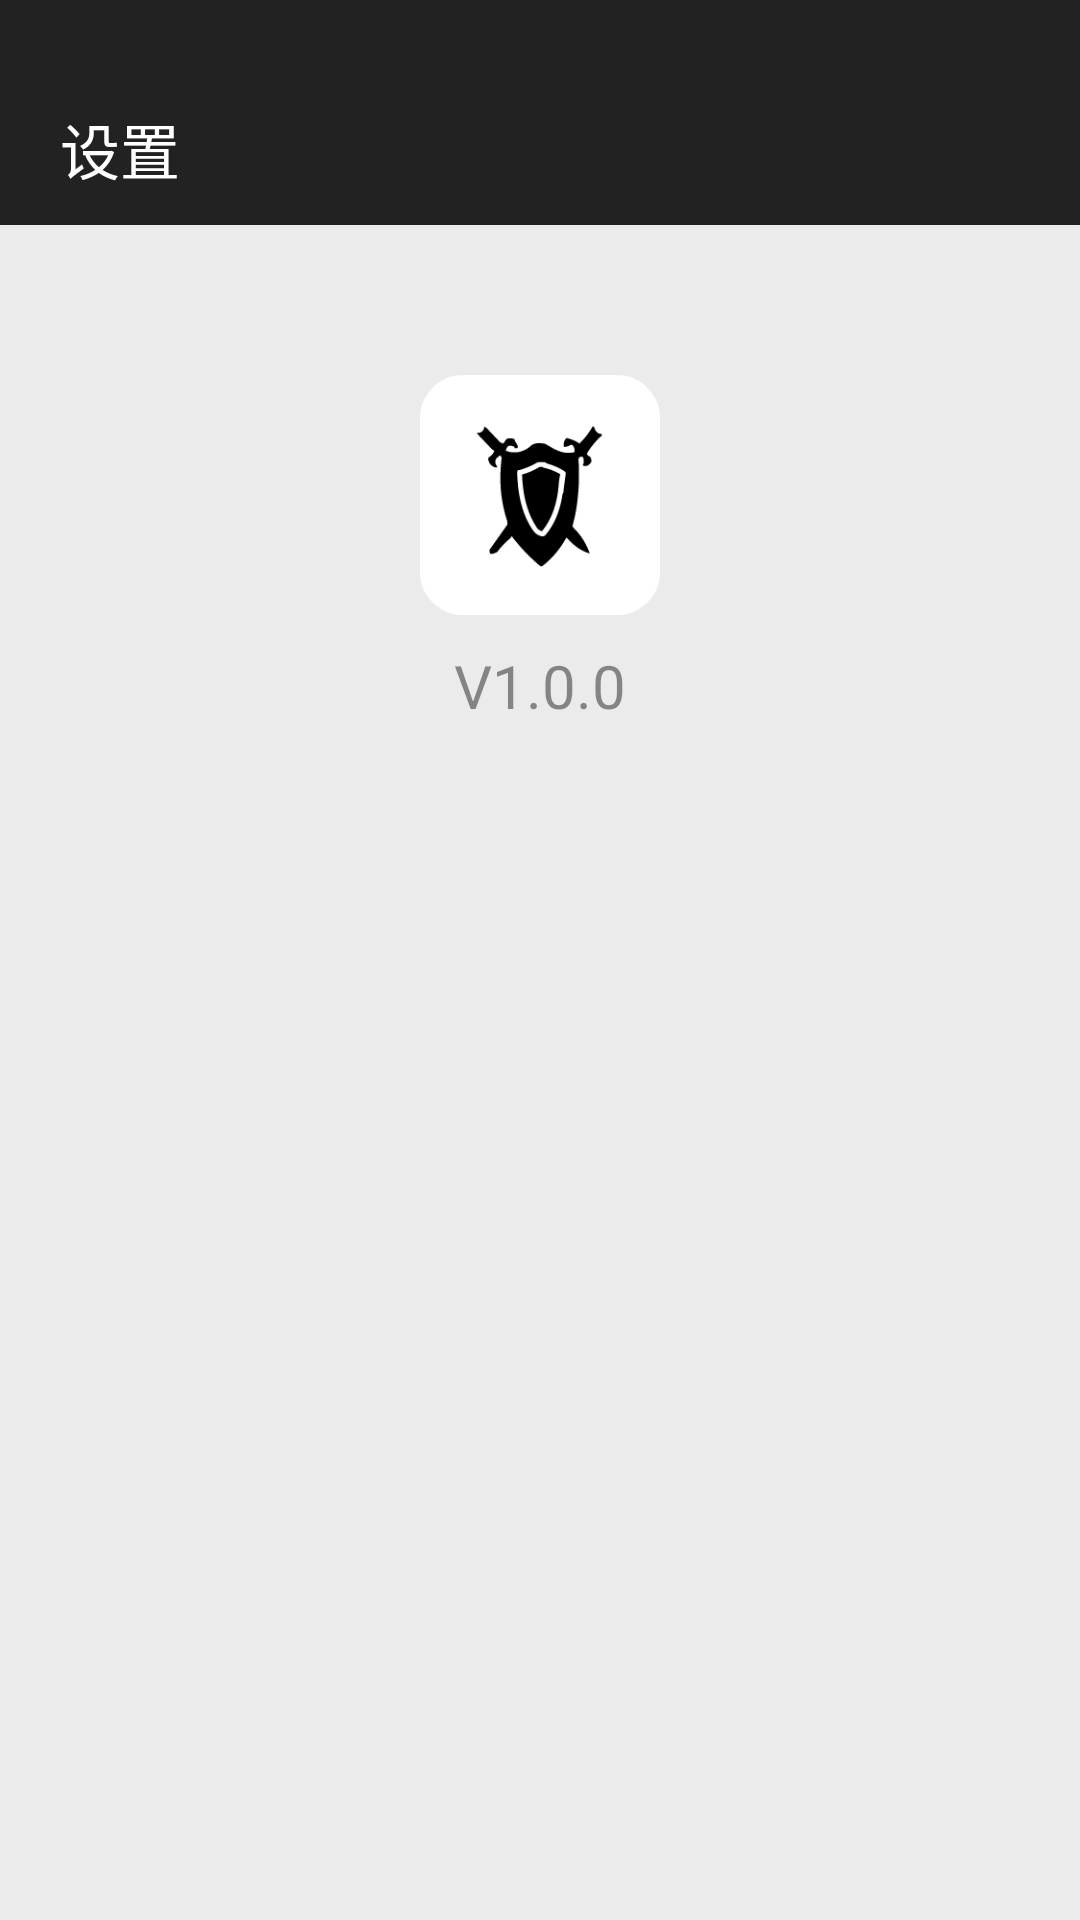

Icon click points for this 1080w x 1920h phone screenshot, format (x=x, y=y):
dunpai: (x=540, y=495)
